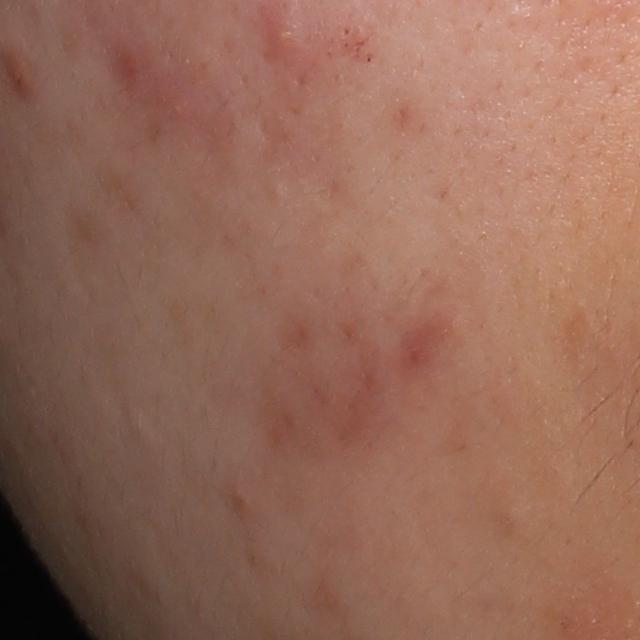comedo: (492, 501, 532, 536)
papule: (267, 13, 297, 62), (5, 48, 35, 95), (229, 486, 252, 516)
